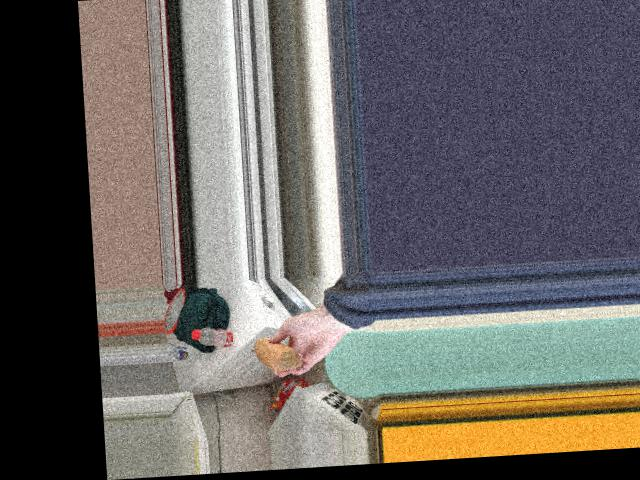sweet_potato: (254, 338, 296, 372)
